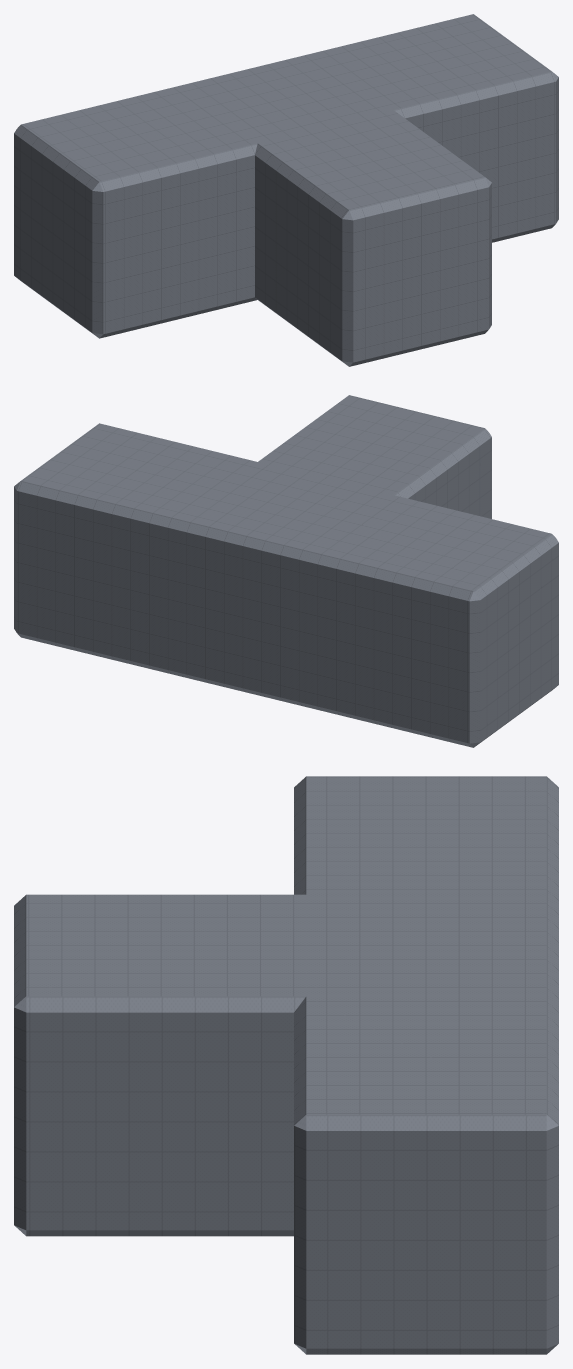
The model's file is R4B_Tee4_LOD1.glb.
The picture shows the model from 3 angles, top to bottom: view 1: azimuth 30°, elevation 25°; view 2: azimuth 150°, elevation 25°; view 3: azimuth 270°, elevation 25°; orthographic projection. The views are drawn at different scales.
Parts seen in each view (by area): view 1: R4B_Tee4_LOD1; view 2: R4B_Tee4_LOD1; view 3: R4B_Tee4_LOD1.
Part boxes in pixels (x1=…): R4B_Tee4_LOD1: x1=14, y1=14, x2=558, y2=366; R4B_Tee4_LOD1: x1=14, y1=395, x2=558, y2=747; R4B_Tee4_LOD1: x1=14, y1=776, x2=558, y2=1354.
Bounding box in the file's own units: 1.62 × 0.52 × 1.07.
1 material, 1 textured.
